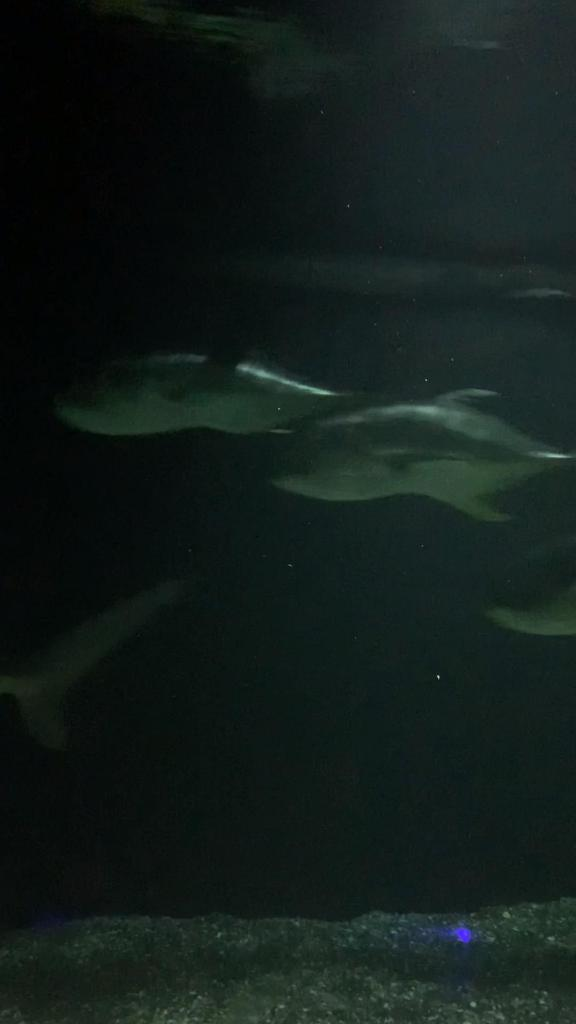fish: (260, 382, 574, 528), (50, 334, 400, 440), (479, 542, 575, 646)
shark: (0, 564, 196, 754)
